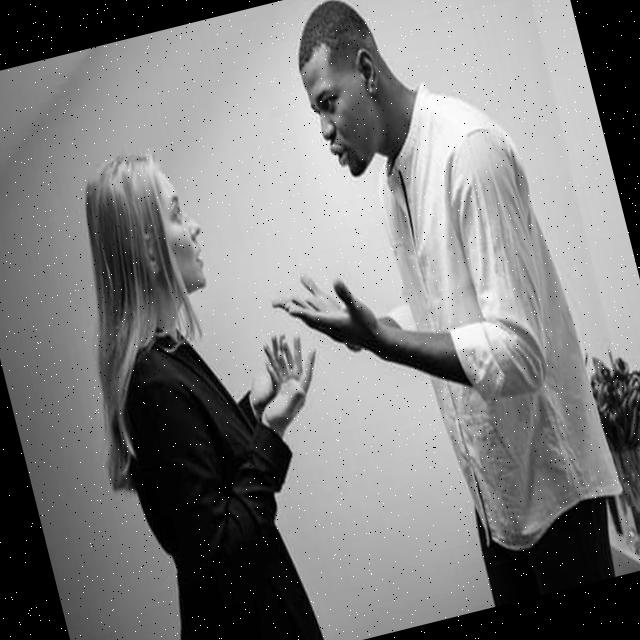Angry: (294, 40, 394, 184)
